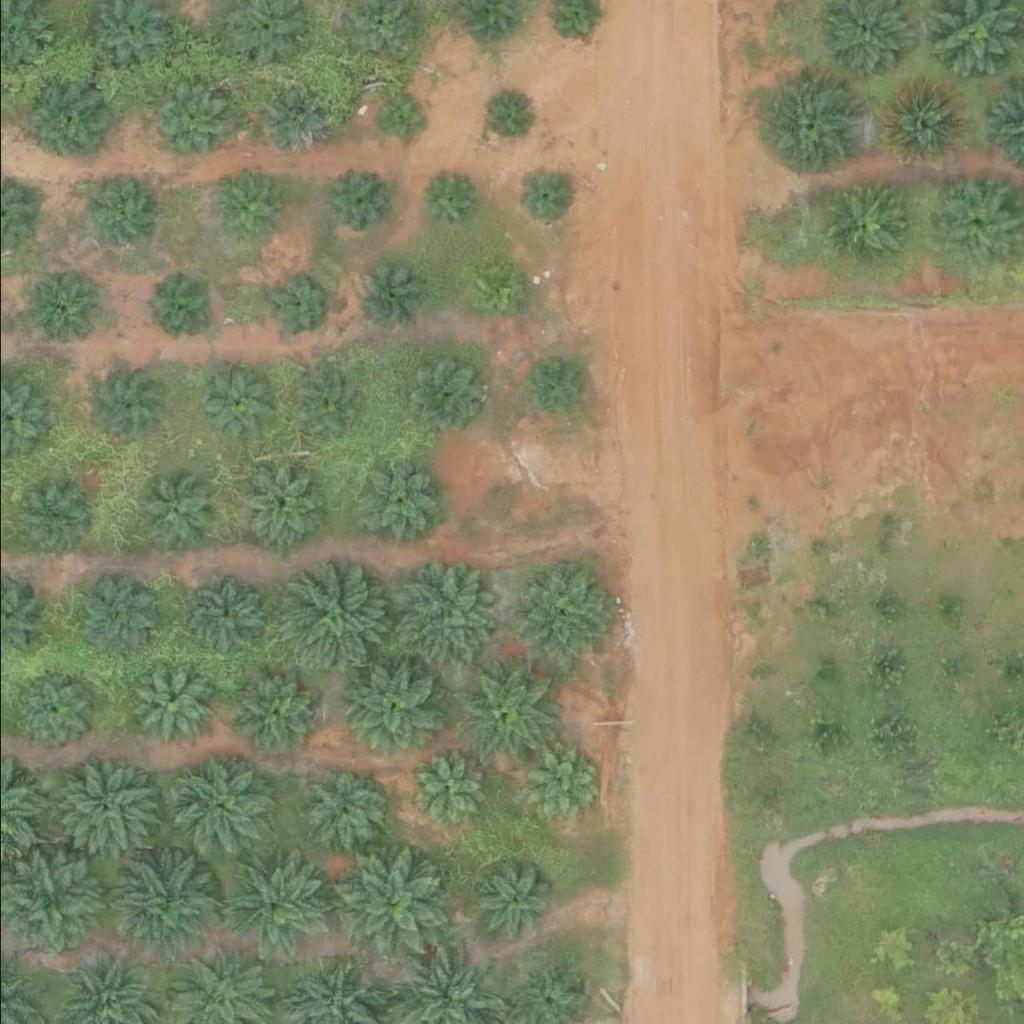Kelapa_Sawit: (383, 563, 497, 676), (276, 569, 390, 682), (337, 850, 450, 963), (218, 855, 331, 968), (109, 849, 222, 962), (761, 80, 862, 180), (509, 564, 610, 664), (458, 662, 559, 762), (339, 662, 439, 762), (172, 759, 272, 859), (58, 762, 158, 862), (22, 78, 110, 166), (880, 81, 968, 169), (817, 186, 905, 274), (465, 859, 554, 946), (513, 747, 601, 834), (7, 670, 95, 757), (928, 180, 1016, 267), (291, 370, 367, 445), (401, 354, 477, 429), (240, 468, 316, 543), (360, 463, 436, 538), (187, 583, 263, 658), (73, 581, 149, 656), (234, 675, 310, 750), (130, 670, 206, 745), (301, 777, 377, 852), (409, 752, 484, 827), (76, 168, 151, 243), (85, 369, 160, 444), (13, 474, 88, 549), (141, 476, 216, 551), (201, 370, 276, 445), (150, 78, 225, 153), (251, 85, 326, 160), (346, 257, 421, 332), (256, 271, 331, 346), (142, 269, 217, 344), (18, 272, 93, 347), (215, 178, 278, 241), (460, 255, 523, 318), (522, 347, 585, 410), (513, 165, 576, 227), (413, 169, 476, 231), (326, 169, 389, 231), (481, 95, 532, 145), (375, 94, 426, 144)
